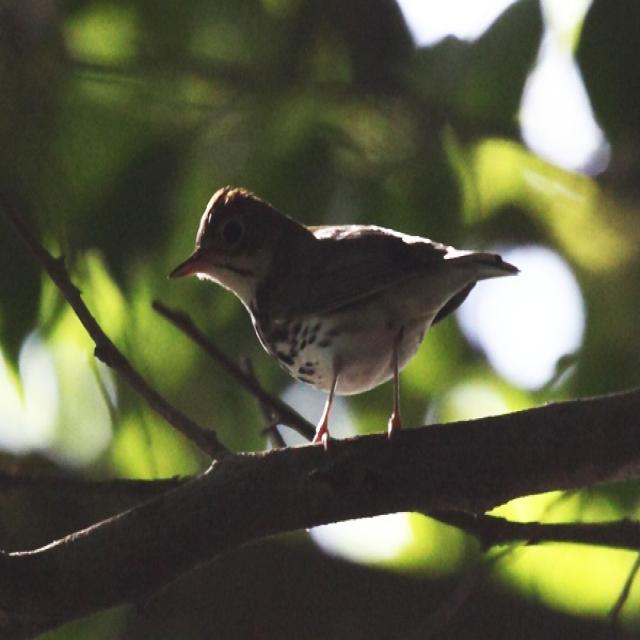bird: (165, 179, 528, 437)
